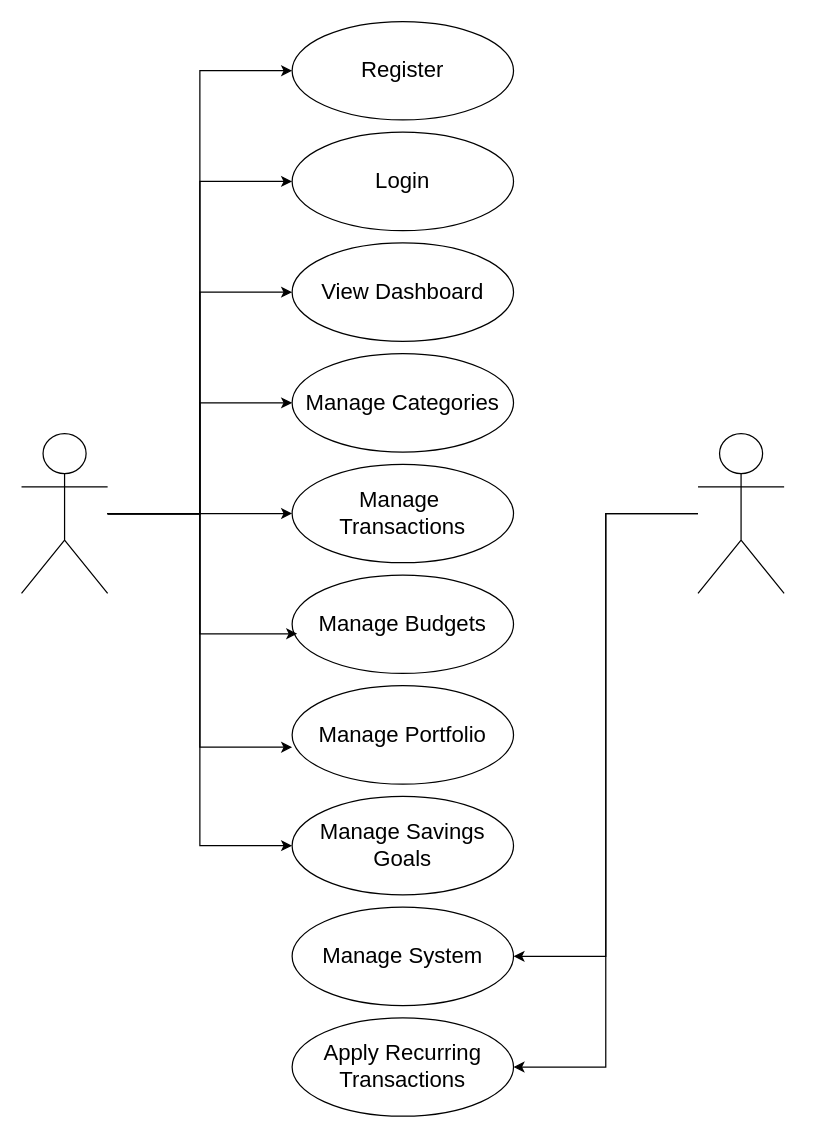
The diagram is 823 pixels wide and 1138 high, and some of its shapes have lost their labels. Here are the shapes that lost their labels. From the top down, the box of each, then its label:
(20, 432, 108, 593): USER
(697, 432, 784, 593): SYSTEM SCHEDULER
